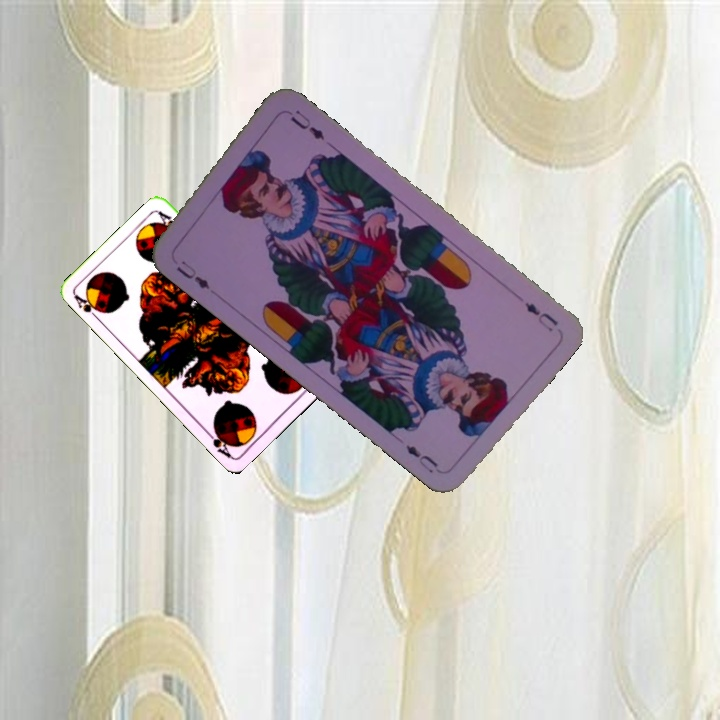EU: (520, 298, 561, 335), (172, 256, 213, 292)
SA: (70, 289, 107, 324)
